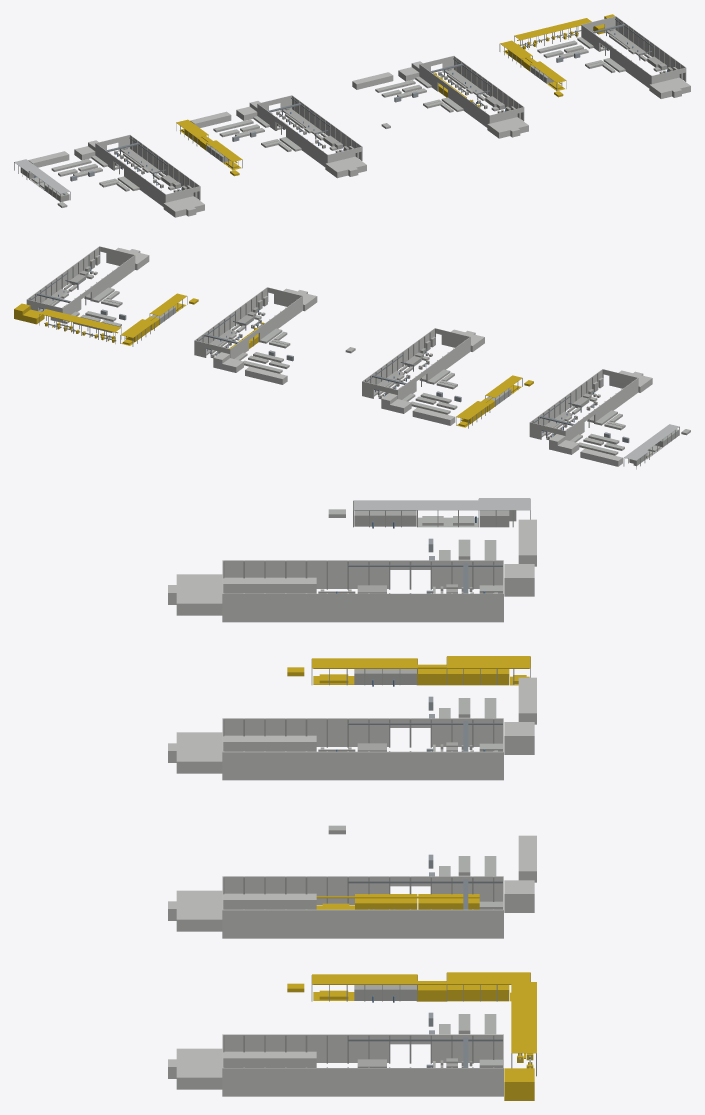
File: comar_4_alternativas.glb
3 renders of one model, top to bottom at view 1: azimuth 30°, elevation 25°; view 2: azimuth 150°, elevation 25°; view 3: azimuth 270°, elevation 25°, orthographic. The views are drawn at different scales.
Parts seen in each view (by area): view 1: ALT3_N1, ALT2_N1, ALT1_N1, ALT4_N1, ALT4_TIN, ALT2_ADM, ALT3_ADM, ALT1_ADM, ALT4_ADM, ALT3_A11, ALT1_A11, ALT2_A11 (+4 smaller); view 2: ALT3_N1, ALT2_N1, ALT1_N1, ALT4_N1, ALT4_TIN, ALT2_A11, ALT1_A11, ALT3_A11, ALT1_ADM, ALT4_CUBp, ALT2_CUBp, ALT4_CUBg (+1 smaller); view 3: ALT2_N1, ALT1_N1, ALT4_N1, ALT3_N1, ALT1_ADM, ALT2_ADM, ALT3_ADM, ALT4_ADM, ALT4_TIN, ALT4_CUBp, ALT2_CUBp, ALT2_CUBg (+7 smaller).
Part boxes in pixels (left/top/right/bottom): ALT3_N1: left=419, top=56, right=524, bottom=127; ALT2_N1: left=257, top=95, right=362, bottom=166; ALT1_N1: left=95, top=135, right=200, bottom=206; ALT4_N1: left=581, top=16, right=686, bottom=87; ALT4_TIN: left=514, top=18, right=593, bottom=49; ALT2_ADM: left=325, top=156, right=366, bottom=178; ALT3_ADM: left=487, top=117, right=528, bottom=138; ALT1_ADM: left=163, top=196, right=204, bottom=217; ALT4_ADM: left=649, top=77, right=690, bottom=98; ALT3_A11: left=352, top=72, right=393, bottom=89; ALT1_A11: left=28, top=151, right=69, bottom=167; ALT2_A11: left=190, top=111, right=231, bottom=127; ALT3_N1: left=194, top=287, right=302, bottom=358; ALT2_N1: left=362, top=328, right=470, bottom=399; ALT1_N1: left=529, top=369, right=638, bottom=440; ALT4_N1: left=26, top=246, right=135, bottom=322; ALT4_TIN: left=39, top=309, right=121, bottom=343; ALT2_A11: left=412, top=407, right=455, bottom=425; ALT1_A11: left=580, top=448, right=622, bottom=466; ALT3_A11: left=245, top=366, right=287, bottom=384; ALT1_ADM: left=609, top=370, right=652, bottom=392; ALT4_CUBp: left=149, top=293, right=187, bottom=324; ALT2_CUBp: left=485, top=375, right=522, bottom=406; ALT4_CUBg: left=120, top=319, right=154, bottom=346; ALT2_N1: left=222, top=718, right=503, bottom=780; ALT1_N1: left=222, top=560, right=503, bottom=622; ALT4_N1: left=222, top=1034, right=503, bottom=1096; ALT3_N1: left=222, top=876, right=503, bottom=938; ALT1_ADM: left=176, top=574, right=222, bottom=615; ALT2_ADM: left=176, top=732, right=222, bottom=773; ALT3_ADM: left=176, top=890, right=222, bottom=931; ALT4_ADM: left=176, top=1048, right=222, bottom=1089; ALT4_TIN: left=511, top=982, right=536, bottom=1076; ALT4_CUBp: left=311, top=974, right=417, bottom=1001; ALT2_CUBp: left=311, top=658, right=417, bottom=685; ALT2_CUBg: left=446, top=656, right=530, bottom=685.
Size of the model in its own units: 335 by 7.5 by 88.74.
